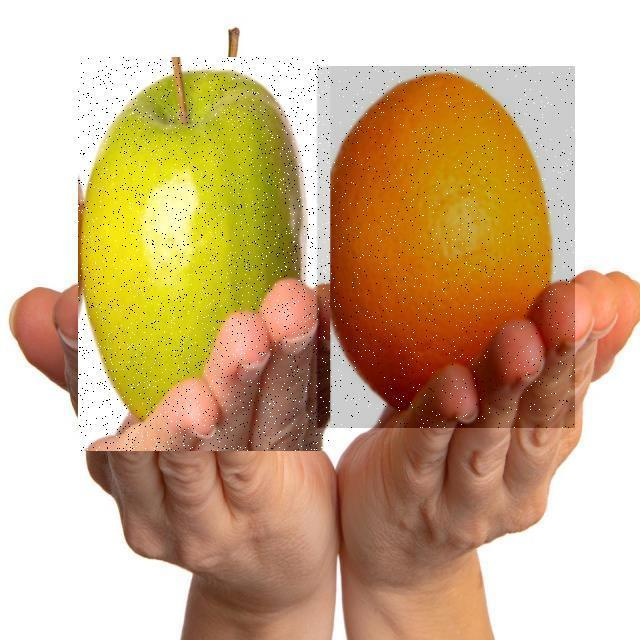Apple: (78, 57, 330, 451)
Orange: (317, 66, 575, 428)
